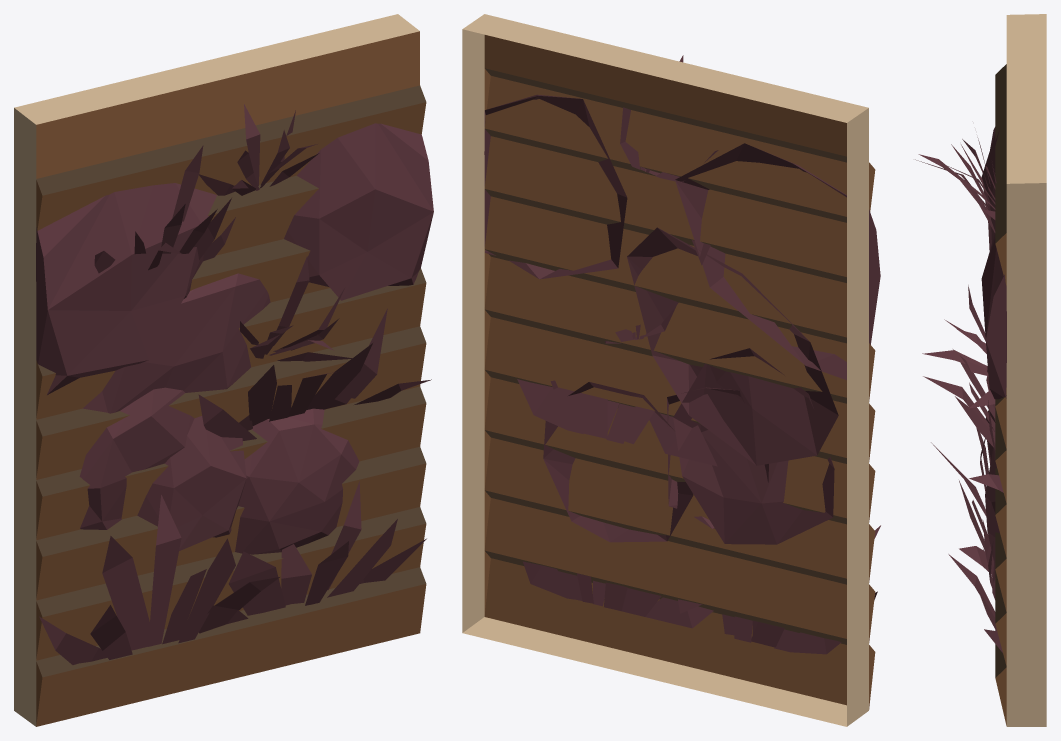
File: house-wall-wood-green-2x3m.fbx
3 views of the same model, side by side, from view 1: azimuth 30°, elevation 25°; view 2: azimuth 150°, elevation 25°; view 3: azimuth 270°, elevation 25° (orthographic). The views are drawn at different scales.
Visible parts, largest first — view 1: house-wall-wood-green-2x3m; view 2: house-wall-wood-green-2x3m; view 3: house-wall-wood-green-2x3m.
Part boxes in pixels (bbox=[...]): house-wall-wood-green-2x3m: bbox=[14, 14, 433, 726]; house-wall-wood-green-2x3m: bbox=[462, 14, 880, 726]; house-wall-wood-green-2x3m: bbox=[915, 14, 1046, 726].
Bounding box in the file's own units: 2.03 × 3.01 × 0.6825.
